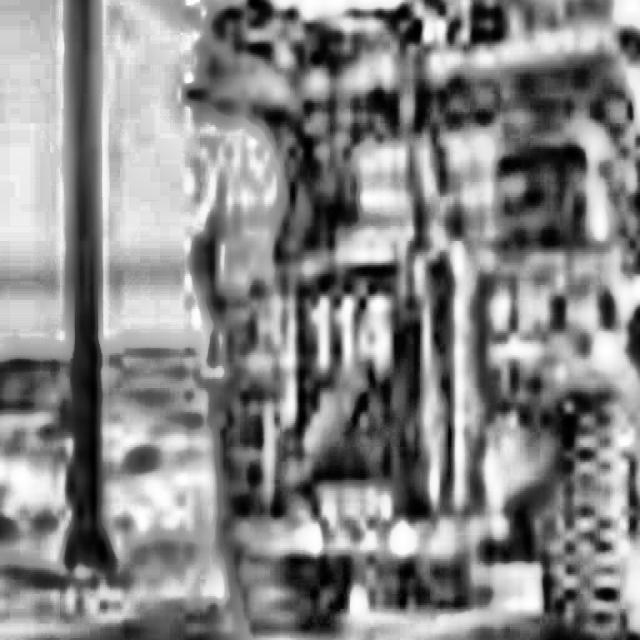dump_truck: (182, 0, 640, 640)
